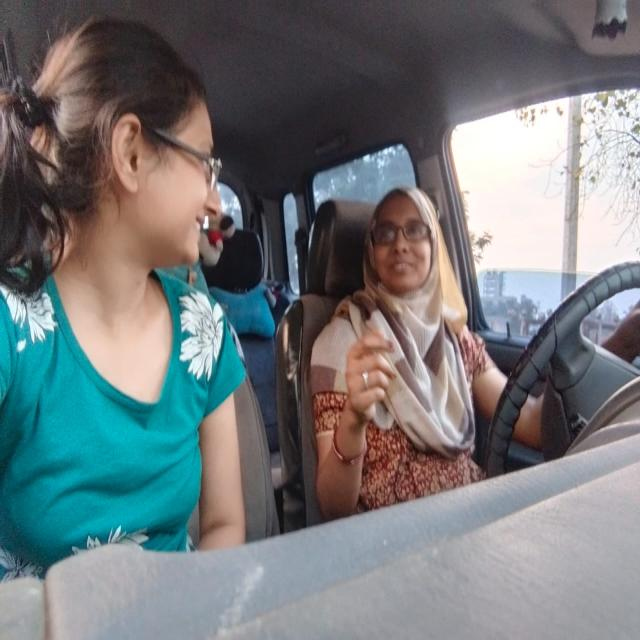LeftRight: (357, 170, 452, 330)
person: (4, 14, 241, 352)
talking: (378, 251, 421, 288), (188, 202, 210, 253)
